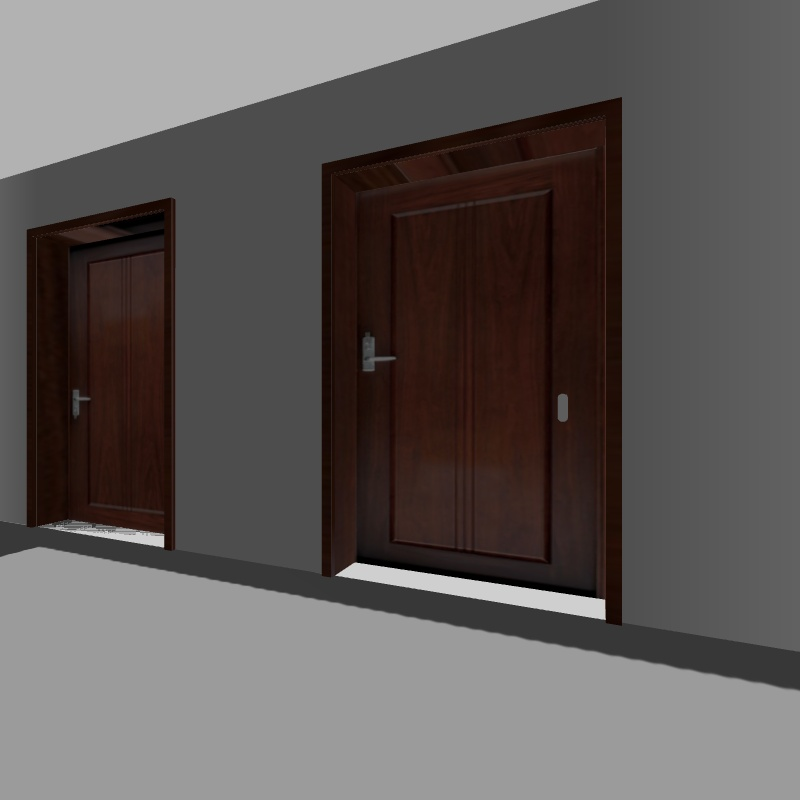handle: (354, 329, 401, 376), (63, 382, 91, 416)
